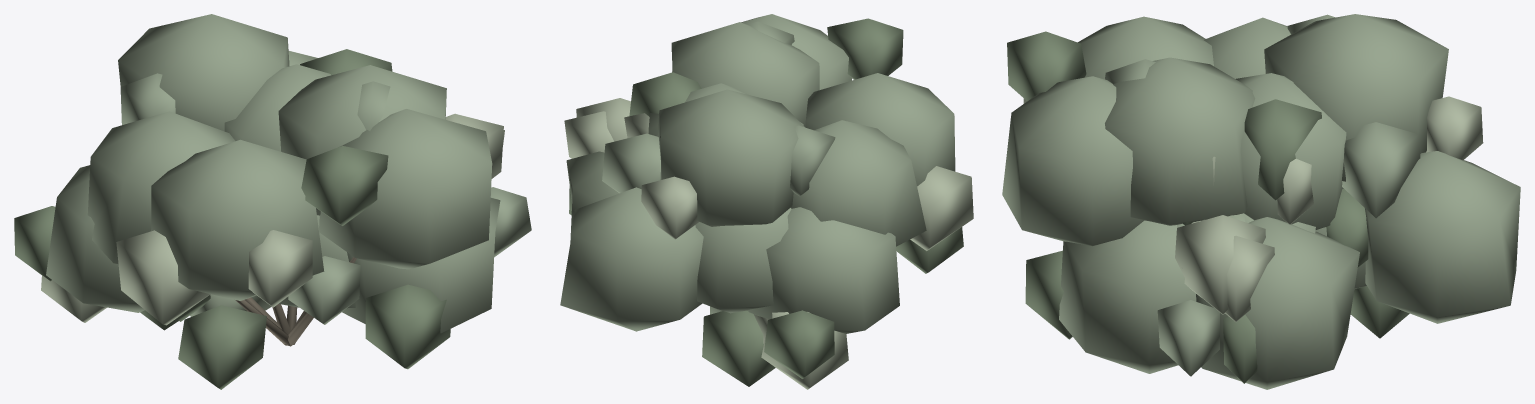
File: SM_MPR3_Bush_1_LOD1.fbx
3 renders of one model, left to right at view 1: azimuth 30°, elevation 25°; view 2: azimuth 150°, elevation 25°; view 3: azimuth 270°, elevation 25°, orthographic. The views are drawn at different scales.
Visible parts, largest first — view 1: SM_MPR3_Bush_1_LOD1; view 2: SM_MPR3_Bush_1_LOD1; view 3: SM_MPR3_Bush_1_LOD1.
Boxes of the visible parts, x1=… form: SM_MPR3_Bush_1_LOD1: x1=14, y1=14, x2=531, y2=389; SM_MPR3_Bush_1_LOD1: x1=560, y1=14, x2=973, y2=389; SM_MPR3_Bush_1_LOD1: x1=1002, y1=14, x2=1520, y2=389.
Size of the model in its own units: 268 by 277 by 190.
